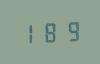eight: (40, 20, 60, 43)
nine: (61, 19, 81, 42)
one: (18, 21, 38, 44)
